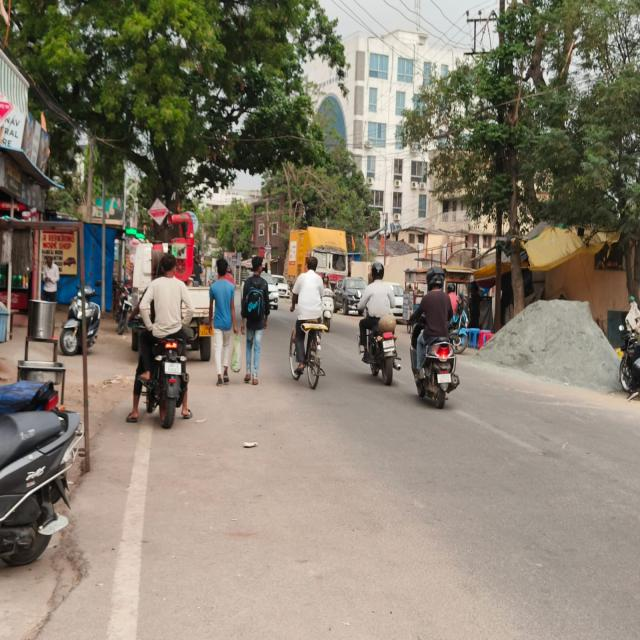bike: (0, 363, 80, 579), (152, 335, 202, 440), (413, 326, 462, 412), (60, 280, 110, 362), (364, 311, 406, 386), (618, 309, 640, 399), (118, 284, 140, 334), (322, 287, 336, 333)
car: (334, 277, 368, 314), (274, 271, 291, 302), (392, 278, 403, 320)
